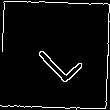L_NW: (26, 26, 84, 84)
